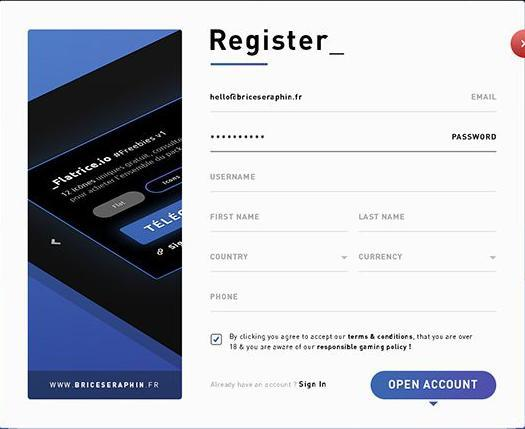button: (370, 370, 498, 402)
checkbox: (211, 333, 224, 348)
label: (230, 331, 479, 358)
